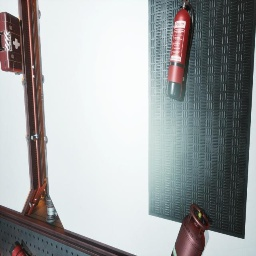FireExtinguisher ]: (166, 0, 194, 99), (10, 241, 31, 256)
FirstAidBox ,: (0, 12, 22, 73)
NitrogenTank ,: (171, 204, 209, 256)
